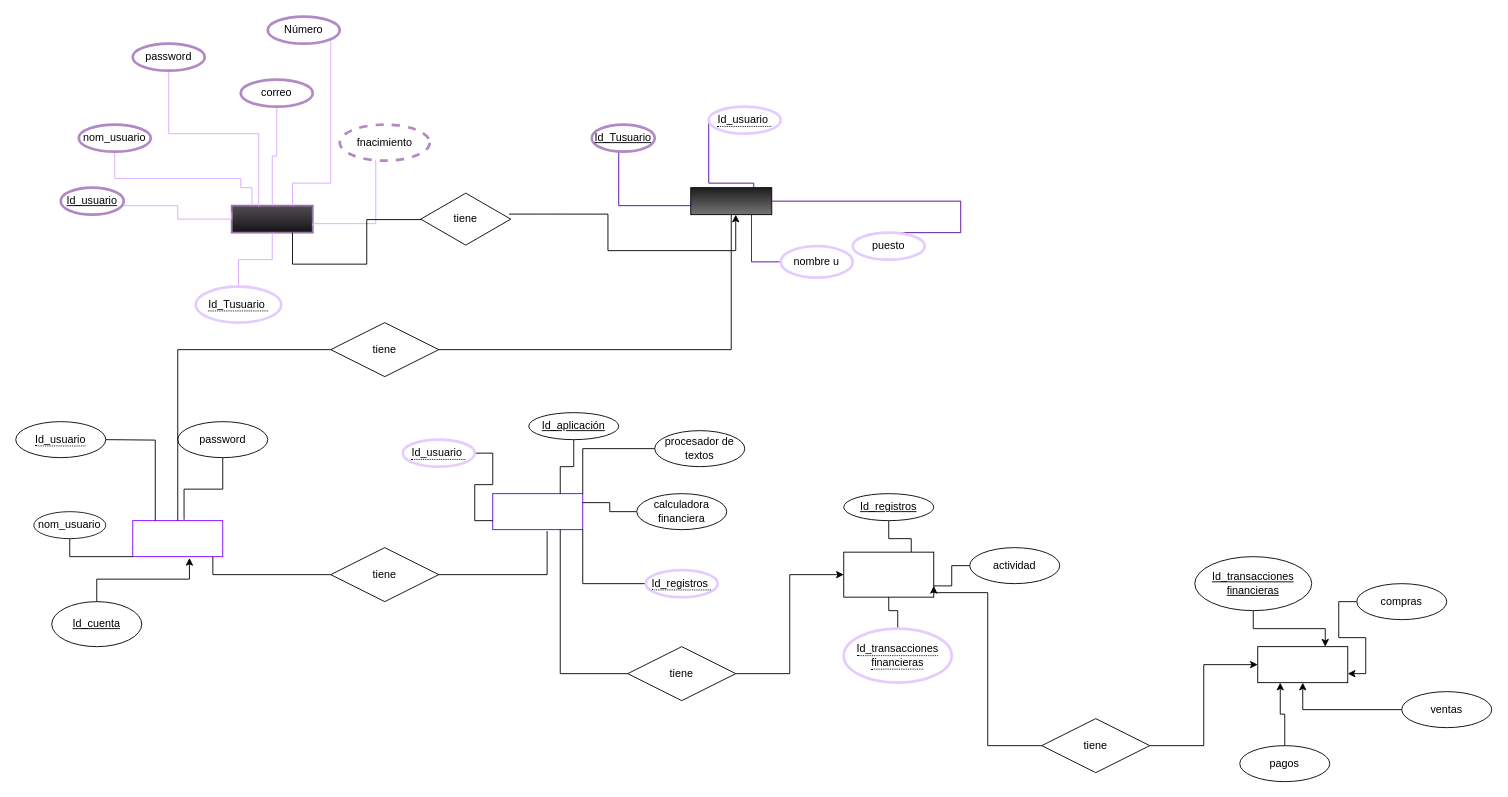
This 1508x797 diagram has some shape labels left out. The centre of each missing label's shape, as x and y in pixels:
aplicación: the point at 537,511
cuenta: the point at 177,538
registros: the point at 888,574
transacciones financieras: the point at 1302,664
tsusuario: the point at 731,201
usuario: the point at 271,218
